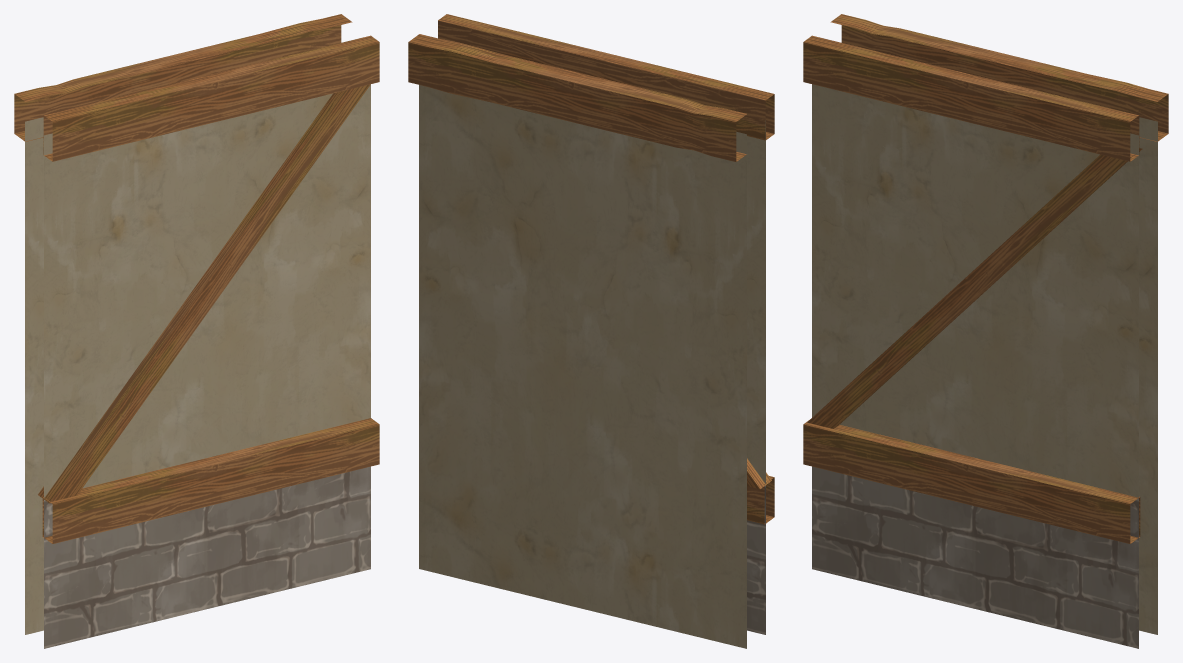
Rendered from Wall_Plaster_Straight_R.gltf.
3 renders of one model, left to right at view 1: azimuth 30°, elevation 25°; view 2: azimuth 150°, elevation 25°; view 3: azimuth 330°, elevation 25°, orthographic.
Visible parts, largest first — view 1: Wall_Plaster_Straight_R; view 2: Wall_Plaster_Straight_R; view 3: Wall_Plaster_Straight_R.
Part boxes in pixels (<box>): Wall_Plaster_Straight_R: <box>14,14,379,648</box>; Wall_Plaster_Straight_R: <box>408,14,774,648</box>; Wall_Plaster_Straight_R: <box>803,14,1168,648</box>.
Bounding box in the file's own units: 2 × 3.12 × 0.4065.
Materials: 3 (3 with a texture image).
